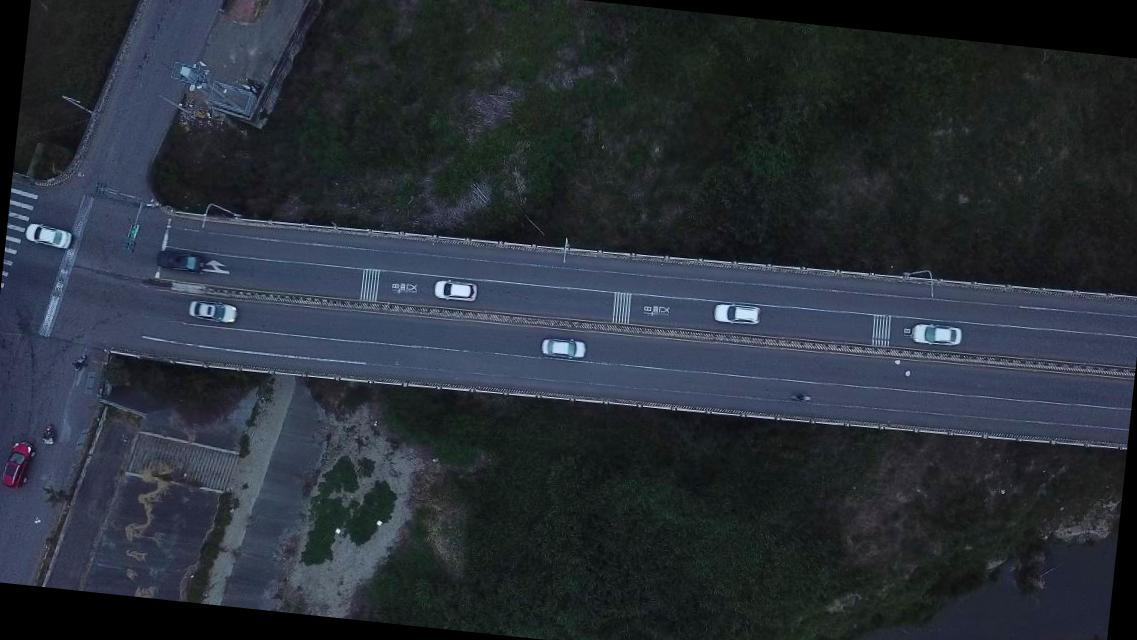vehicle: (0, 438, 38, 489), (185, 296, 238, 325), (910, 320, 962, 348), (22, 222, 72, 250), (710, 300, 762, 326), (538, 335, 588, 361), (152, 250, 204, 274), (432, 277, 478, 302)
